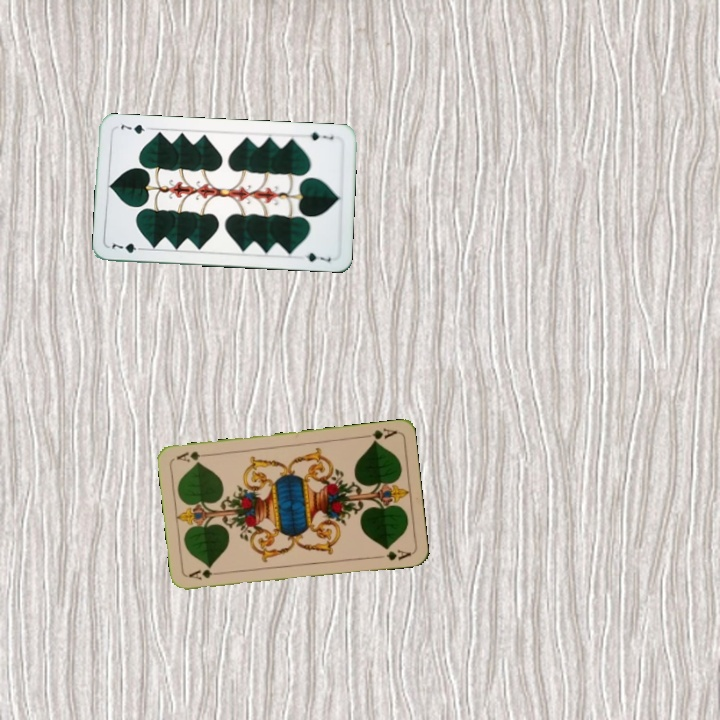G7: (108, 238, 147, 255), (306, 128, 336, 143)
GA: (359, 424, 399, 445), (185, 565, 225, 583)
